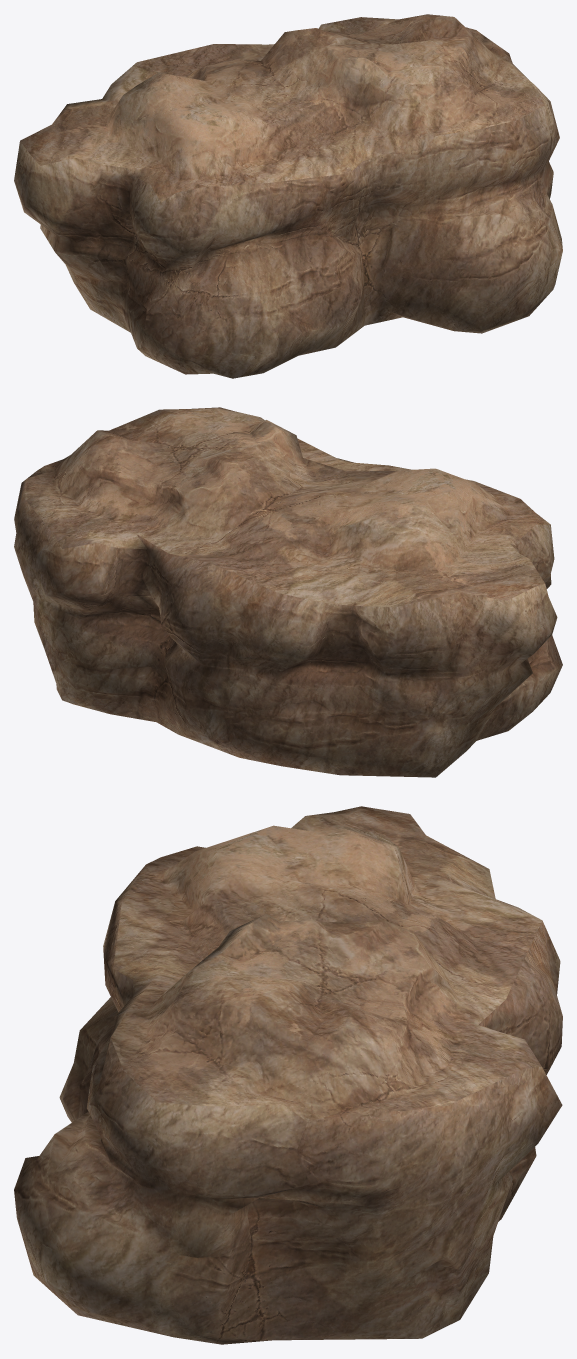
File: canyon_ridge01.dae
The picture shows the model from 3 angles, top to bottom: view 1: azimuth 30°, elevation 25°; view 2: azimuth 150°, elevation 25°; view 3: azimuth 270°, elevation 25°; orthographic projection. The views are drawn at different scales.
Visible parts, largest first — view 1: Mesh; view 2: Mesh; view 3: Mesh.
Part boxes in pixels (<box>): Mesh: <box>14,14,562,378</box>; Mesh: <box>14,407,562,777</box>; Mesh: <box>14,806,562,1344</box>.
Size of the model in its own units: 20.14 by 9.5 by 14.4.
